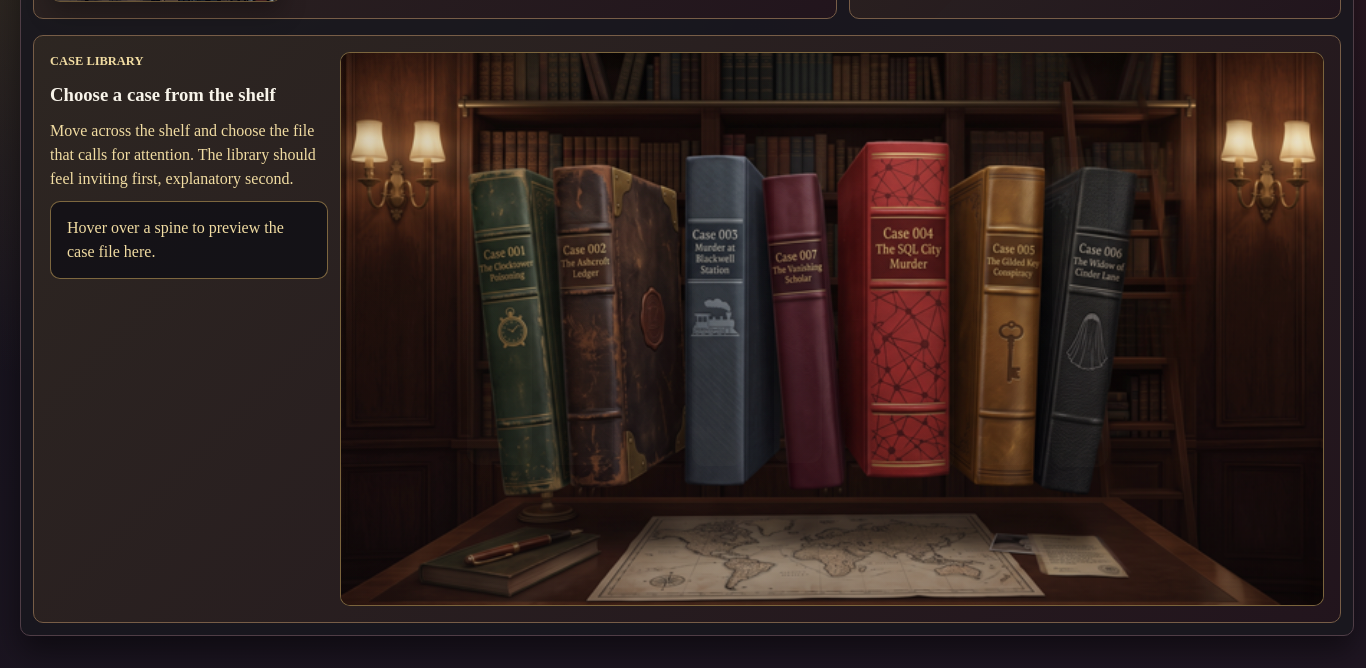
it: App › shows no default case preview, then reveals case details when a spine is hovered
(page scrolled)
Check: the text "Hover over a spine to preview the case file here." is shown, box [67,216,311,264]
Check: the heading "The Widow of Cinder Lane" is not shown
Hover over the button named "Select Case 006: The Widow of Cinder Lane" at (1080, 312), box [1052,157,1108,467]
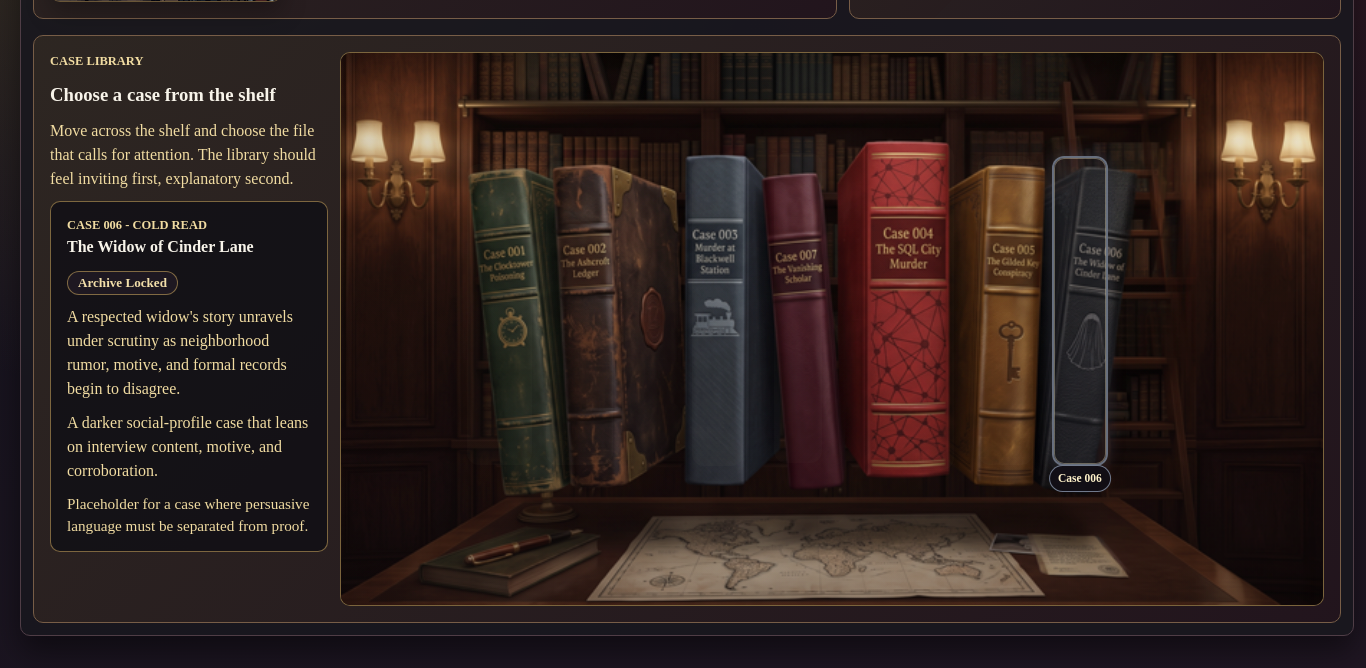
Check: the heading "The Widow of Cinder Lane" is shown, box [67,234,254,258]
Check: the text "Archive Locked" is shown, box [67,270,178,295]
Check: the text "A darker social-profile case that leans on interview content" is shown, box [67,414,308,479]
